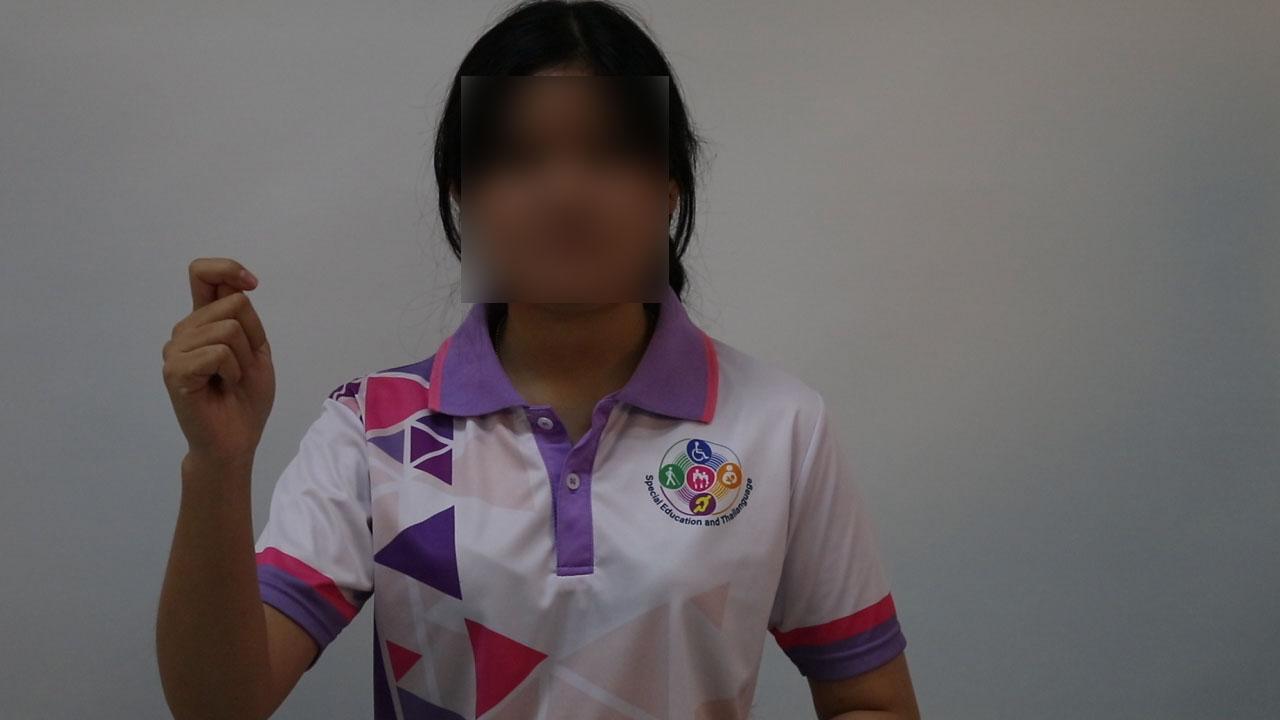or: (154, 253, 281, 479)
